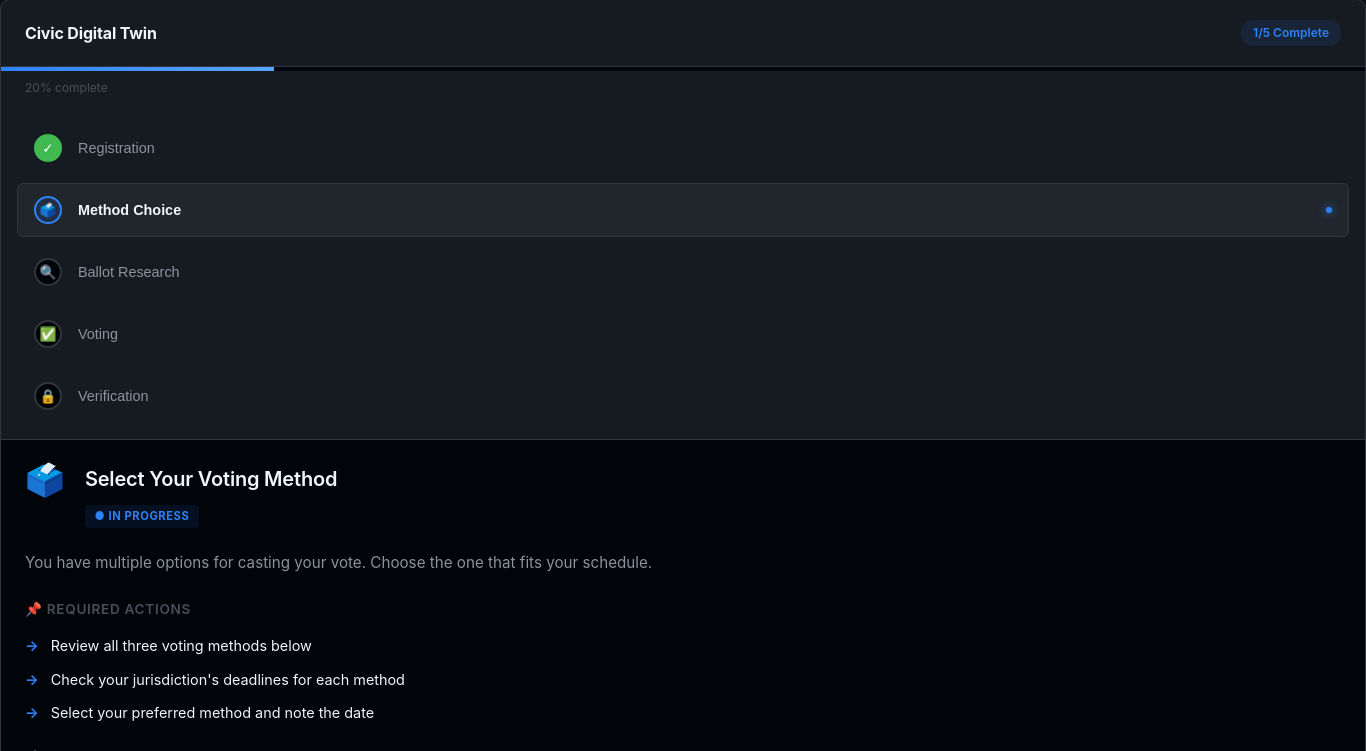
it: FAQ Accordion › clicking same FAQ again collapses it
This screenshot has width=1366, height=751.
Click the button "✓ Registration": coordinates (116, 148) [17,121,1349,175]
(page scrolled)
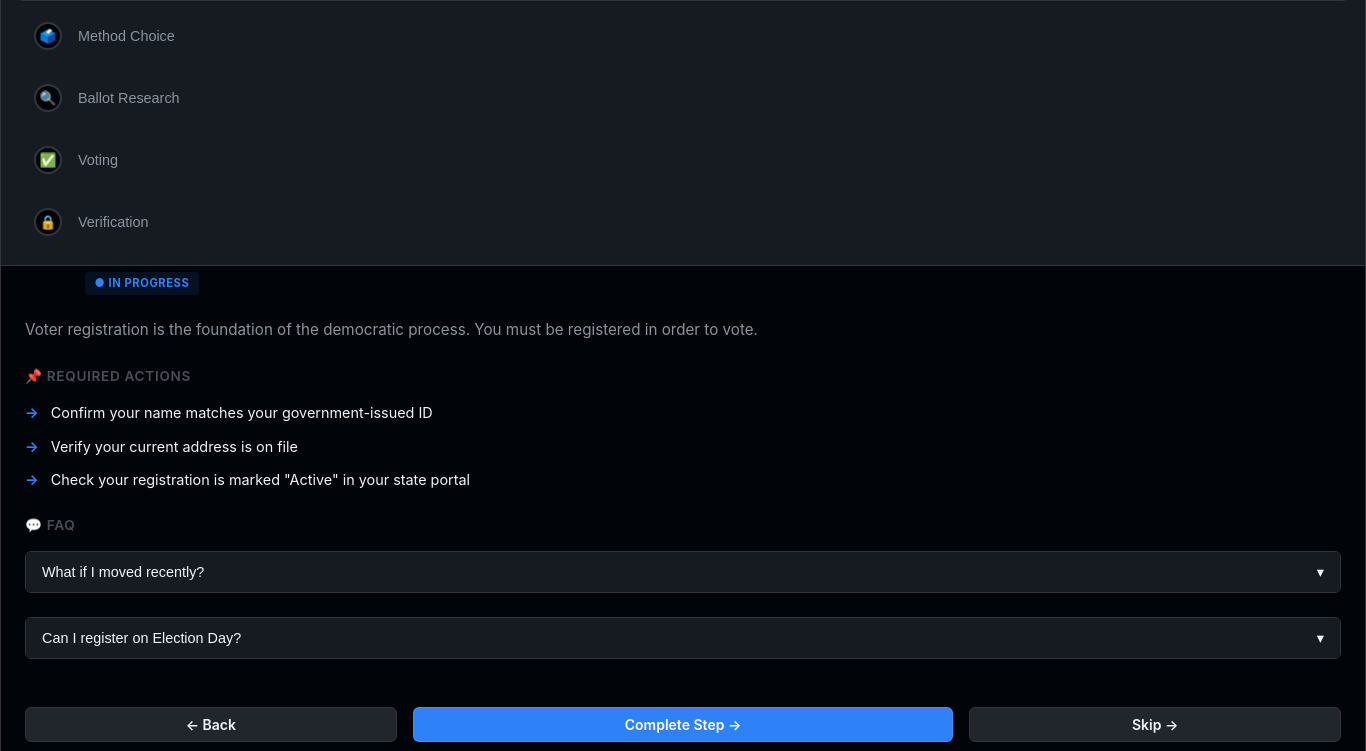
Click the button "What if I moved recently? ▾": coordinates (123, 572) [26,552,1340,592]
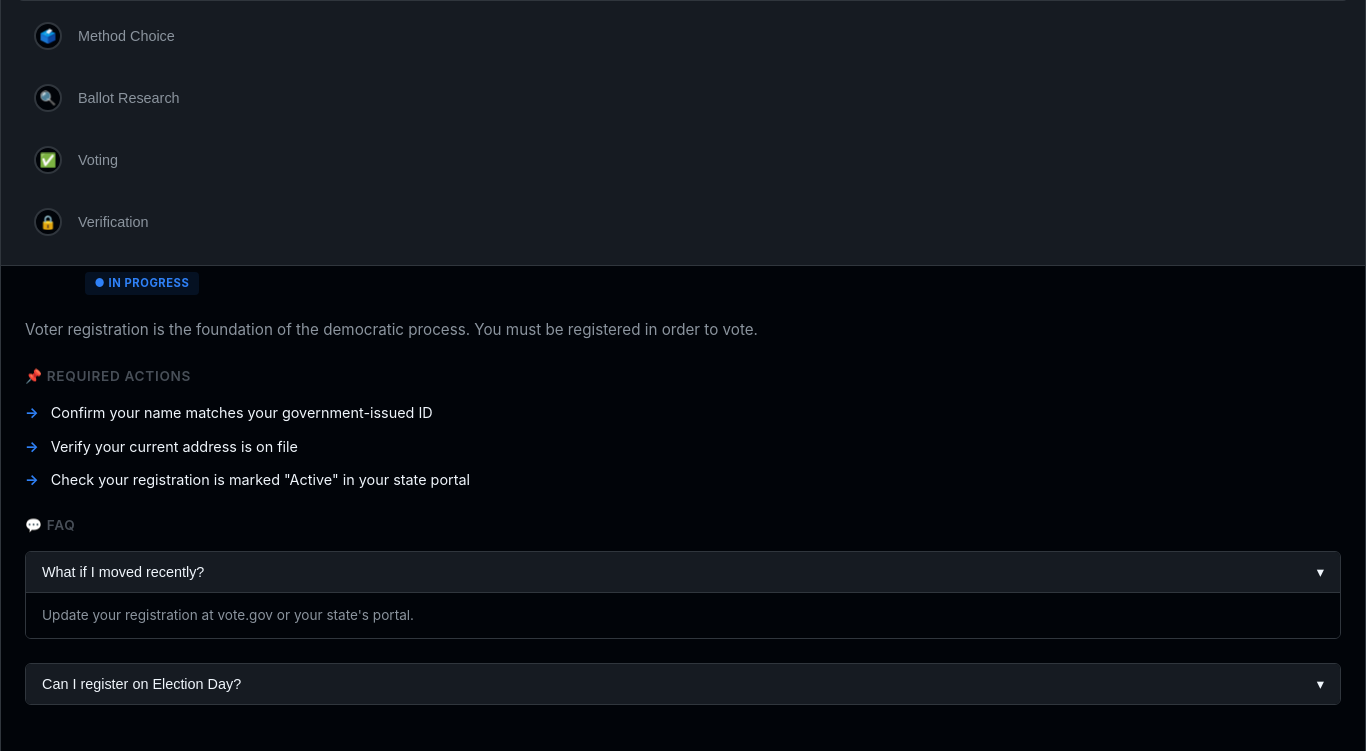
Click the button "What if I moved recently? ▾": coordinates (123, 572) [26,552,1340,592]
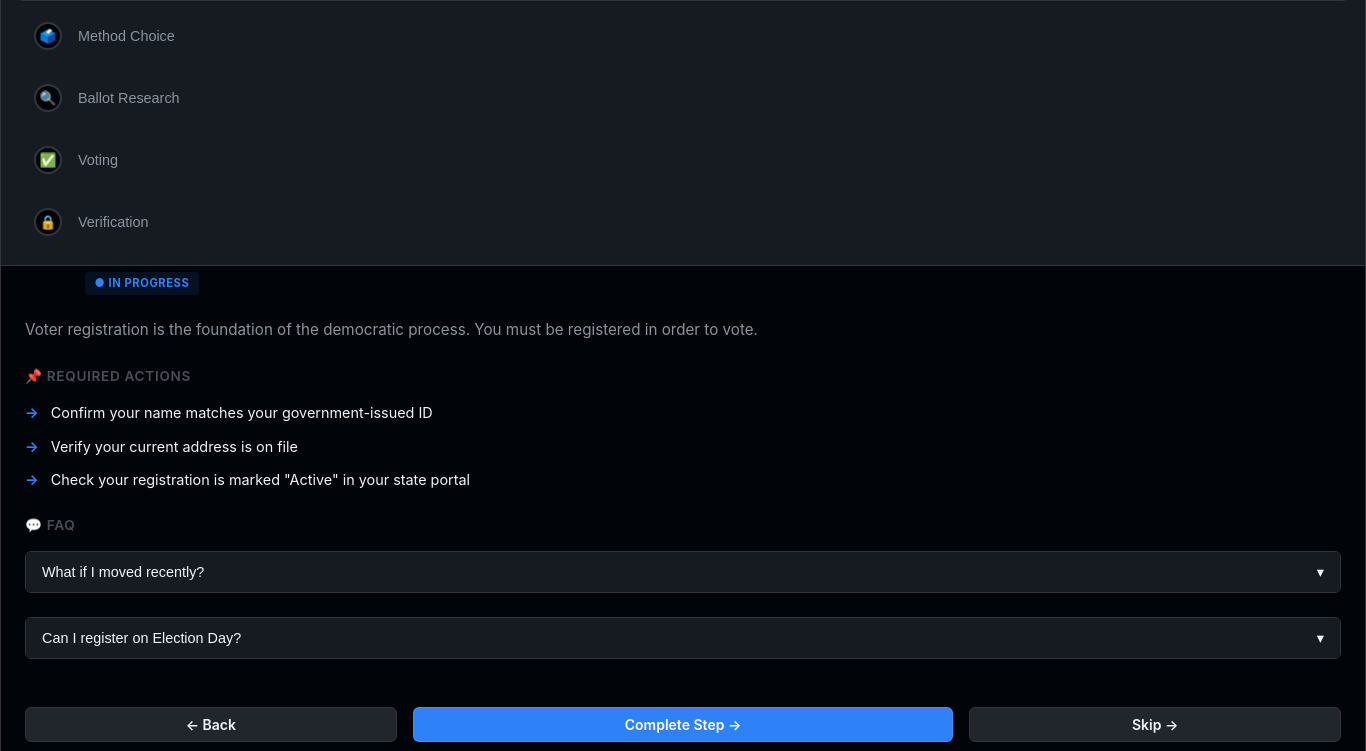
Expected: the text "Update your registration at vote.gov" is gone
